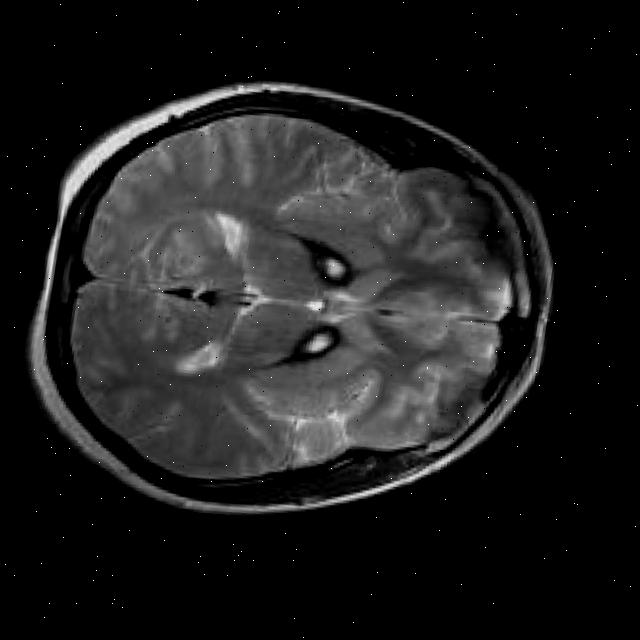NoTumor: (34, 56, 558, 539)
